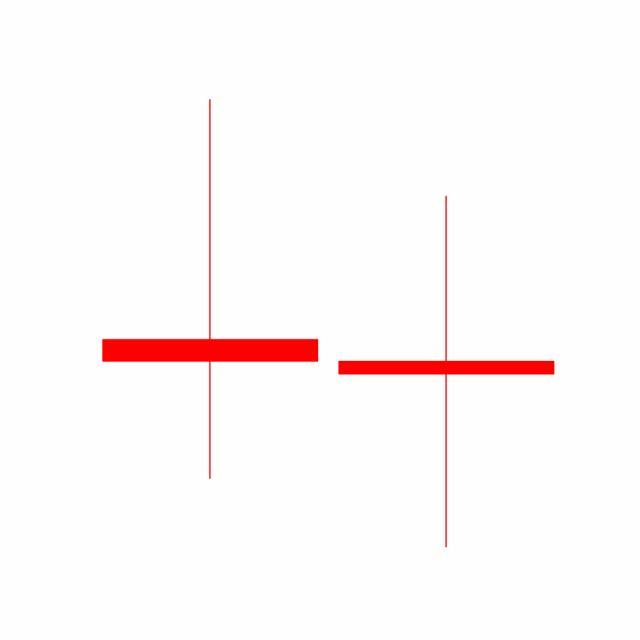Spinning Top: (328, 192, 566, 552)
